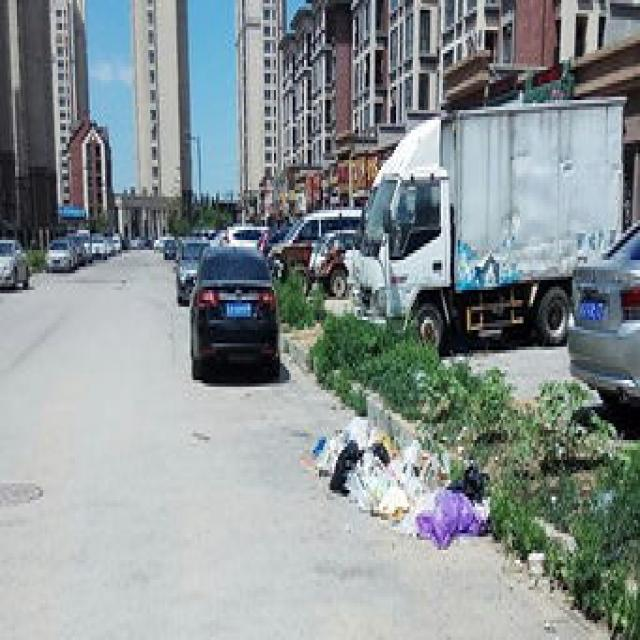garbage: (308, 406, 490, 546)
